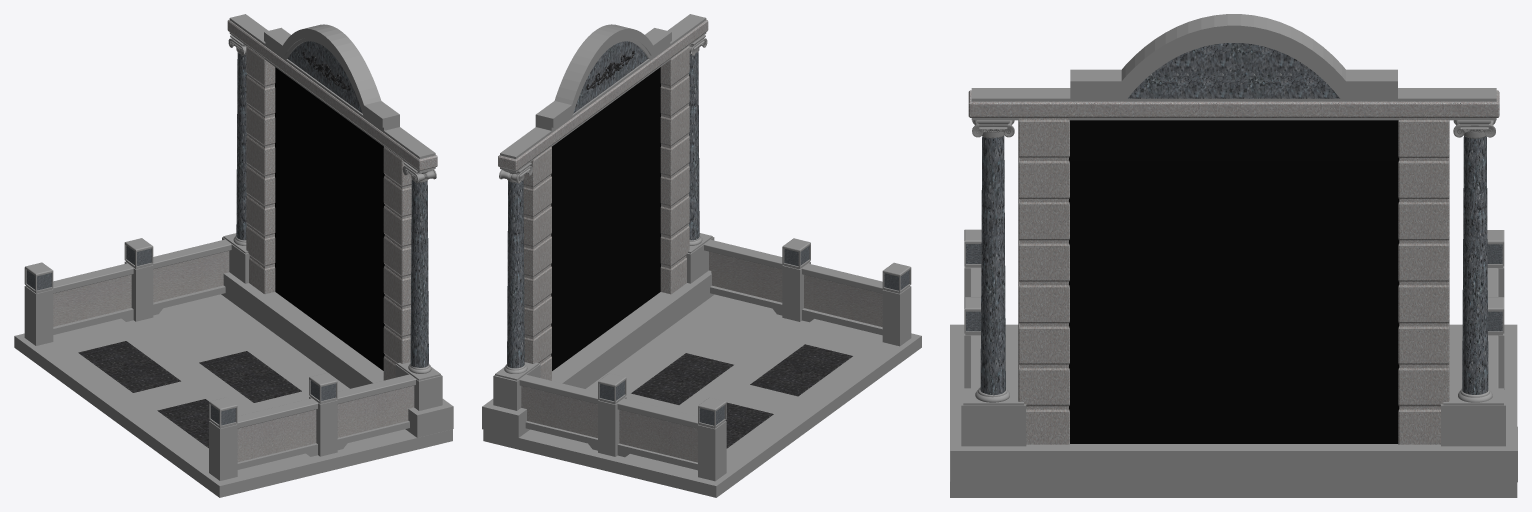
3 renders of one model, left to right at view 1: azimuth 30°, elevation 25°; view 2: azimuth 150°, elevation 25°; view 3: azimuth 270°, elevation 25°, orthographic. The views are drawn at different scales.
Visible parts, largest first — view 1: object 1, object 4, object 2, Obj3d66-7600282-84-372, Obj3d66-7600282-61-240, Obj3d66-7600282-156-141, Obj3d66-7600282-162-970, object 3, Obj3d66-7600282-78-462, Obj3d66-7600282-67-907, Obj3d66-7600282-135-733, Obj3d66-7600282-94-767 (+29 smaller); view 2: object 1, object 4, object 2, Obj3d66-7600282-66-634, Obj3d66-7600282-80-151, Obj3d66-7600282-160-295, Obj3d66-7600282-156-141, object 3, Obj3d66-7600282-72-655, Obj3d66-7600282-73-56, Obj3d66-7600282-135-733, Obj3d66-7600282-54-567 (+29 smaller); view 3: object 4, object 1, object 2, object 3, Obj3d66-7600282-135-733, Obj3d66-7600282-43-867.001, Obj3d66-7600282-43-867.002, Obj3d66-7600282-120-692, Obj3d66-7600282-110-284, Obj3d66-7600282-113-171, Obj3d66-7600282-114-396, Obj3d66-7600282-116-305 (+14 smaller).
Boxes of the visible parts, x1,y1,x2,y2 form: object 1: (14, 24, 453, 497); object 4: (275, 67, 384, 370); object 2: (236, 41, 428, 367); Obj3d66-7600282-84-372: (237, 409, 316, 462); Obj3d66-7600282-61-240: (53, 274, 131, 326); Obj3d66-7600282-156-141: (199, 351, 301, 402); Obj3d66-7600282-162-970: (78, 341, 180, 392); object 3: (227, 19, 437, 170); Obj3d66-7600282-78-462: (337, 385, 414, 437); Obj3d66-7600282-67-907: (153, 251, 229, 302); Obj3d66-7600282-135-733: (229, 14, 435, 158); Obj3d66-7600282-94-767: (24, 285, 53, 345); object 1: (482, 24, 921, 497); object 4: (551, 67, 660, 370); object 2: (507, 41, 699, 368); Obj3d66-7600282-66-634: (619, 410, 697, 462); Obj3d66-7600282-80-151: (804, 275, 882, 326); Obj3d66-7600282-160-295: (750, 344, 852, 396); Obj3d66-7600282-156-141: (631, 353, 733, 404); object 3: (498, 19, 708, 170); Obj3d66-7600282-72-655: (521, 386, 597, 437); Obj3d66-7600282-73-56: (711, 252, 782, 302); Obj3d66-7600282-135-733: (500, 14, 706, 159); Obj3d66-7600282-54-567: (882, 286, 911, 346); object 4: (1069, 120, 1399, 443); object 1: (950, 14, 1517, 497); object 2: (980, 43, 1488, 395); object 3: (968, 90, 1499, 117); Obj3d66-7600282-135-733: (971, 88, 1496, 101); Obj3d66-7600282-43-867.001: (961, 388, 1026, 446); Obj3d66-7600282-43-867.002: (1441, 388, 1505, 446); Obj3d66-7600282-120-692: (1018, 322, 1069, 366); Obj3d66-7600282-110-284: (1398, 322, 1449, 366); Obj3d66-7600282-113-171: (1398, 280, 1449, 324); Obj3d66-7600282-114-396: (1398, 239, 1449, 283); Obj3d66-7600282-116-305: (1018, 280, 1069, 324).
Size of the model in its own units: 2.94 by 4.05 by 4.47.
5 materials, 3 textured.
